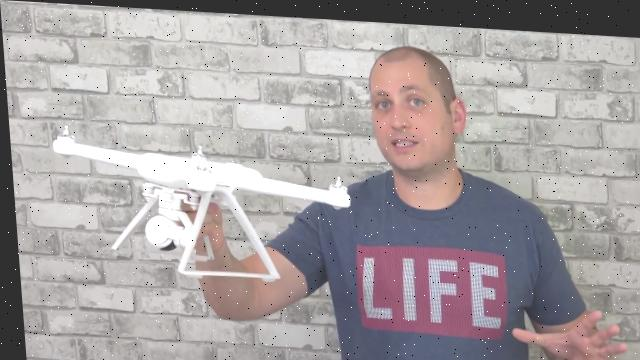drone: (44, 119, 343, 294)
